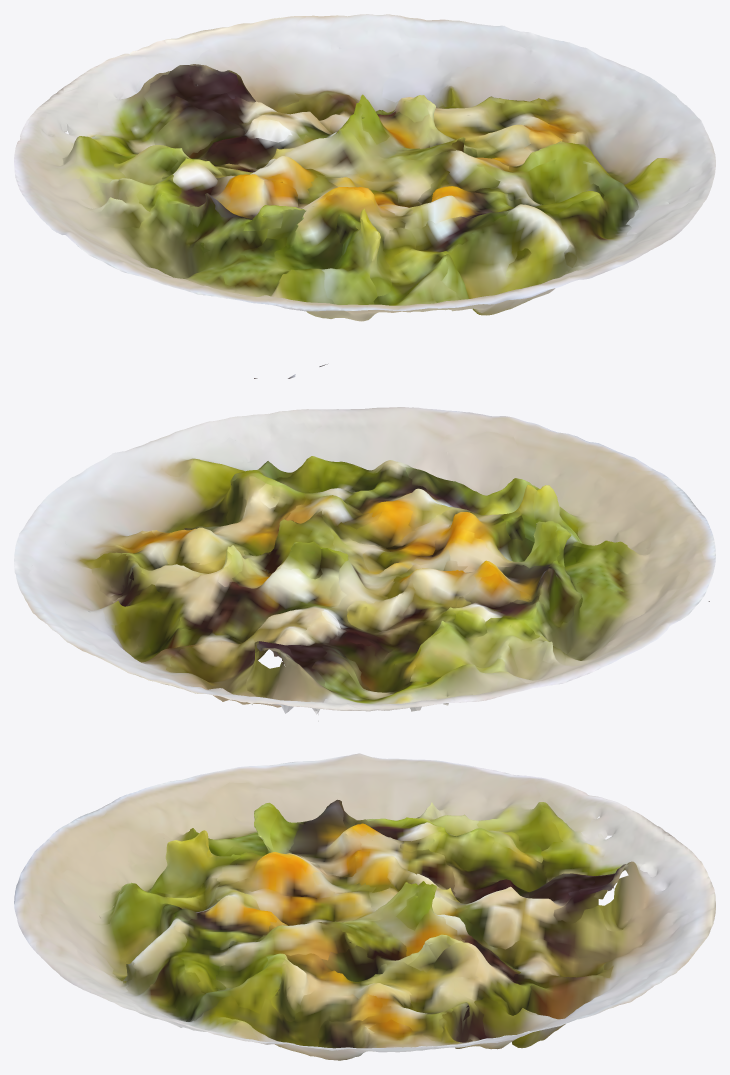
Rendered from salad_plate.glb.
The picture shows the model from 3 angles, top to bottom: view 1: azimuth 30°, elevation 25°; view 2: azimuth 150°, elevation 25°; view 3: azimuth 270°, elevation 25°; orthographic projection.
Visible parts, largest first — view 1: plateobjcleanermaterialmergergles; view 2: plateobjcleanermaterialmergergles; view 3: plateobjcleanermaterialmergergles.
Boxes of the visible parts, box(x1,y1,x2,y2) form: plateobjcleanermaterialmergergles: box(14, 14, 715, 378); plateobjcleanermaterialmergergles: box(14, 407, 715, 721); plateobjcleanermaterialmergergles: box(14, 753, 715, 1060).
Size of the model in its own units: 0.2206 by 0.0378 by 0.225.
Materials: 1 (1 with a texture image).
